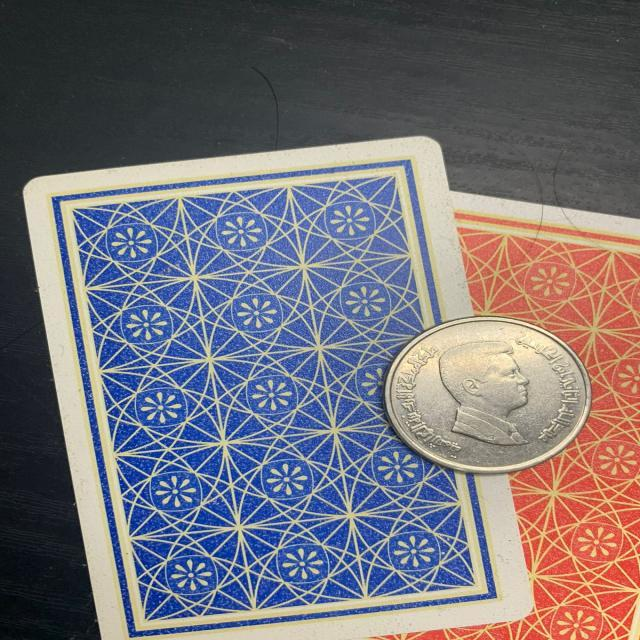10-coins: (381, 314, 592, 474)
